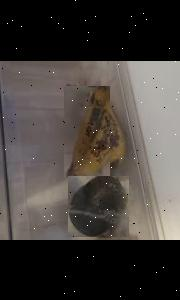Aguacate: (68, 175, 129, 236)
Plátano: (69, 82, 127, 166), (64, 85, 110, 176)
